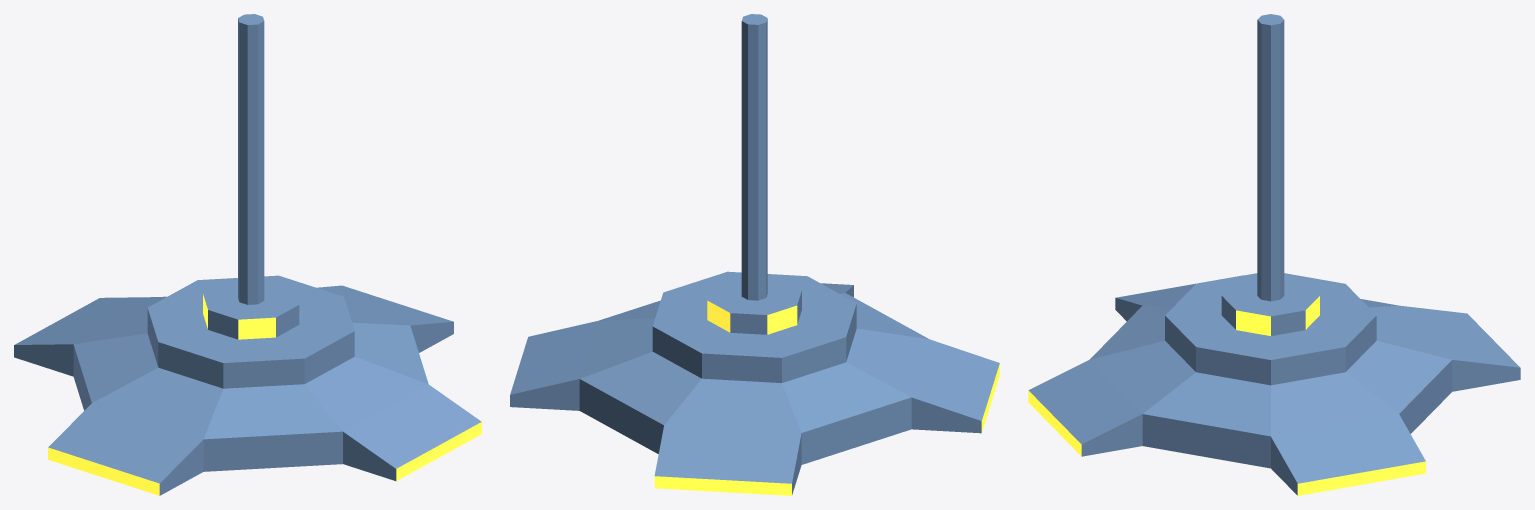
The model's file is TurretMount.fbx.
3 renders of one model, left to right at view 1: azimuth 30°, elevation 25°; view 2: azimuth 150°, elevation 25°; view 3: azimuth 270°, elevation 25°, orthographic.
Parts seen in each view (by area): view 1: Cylinder; view 2: Cylinder; view 3: Cylinder.
Part boxes in pixels (<box>): Cylinder: <box>14,14,481,495</box>; Cylinder: <box>510,14,999,495</box>; Cylinder: <box>1028,14,1520,495</box>.
Bounding box in the file's own units: 272 × 226 × 271.
